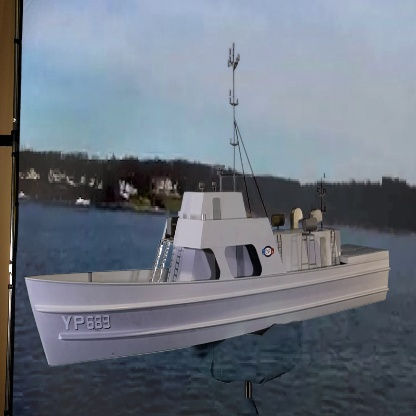YP689: (24, 44, 392, 373)
